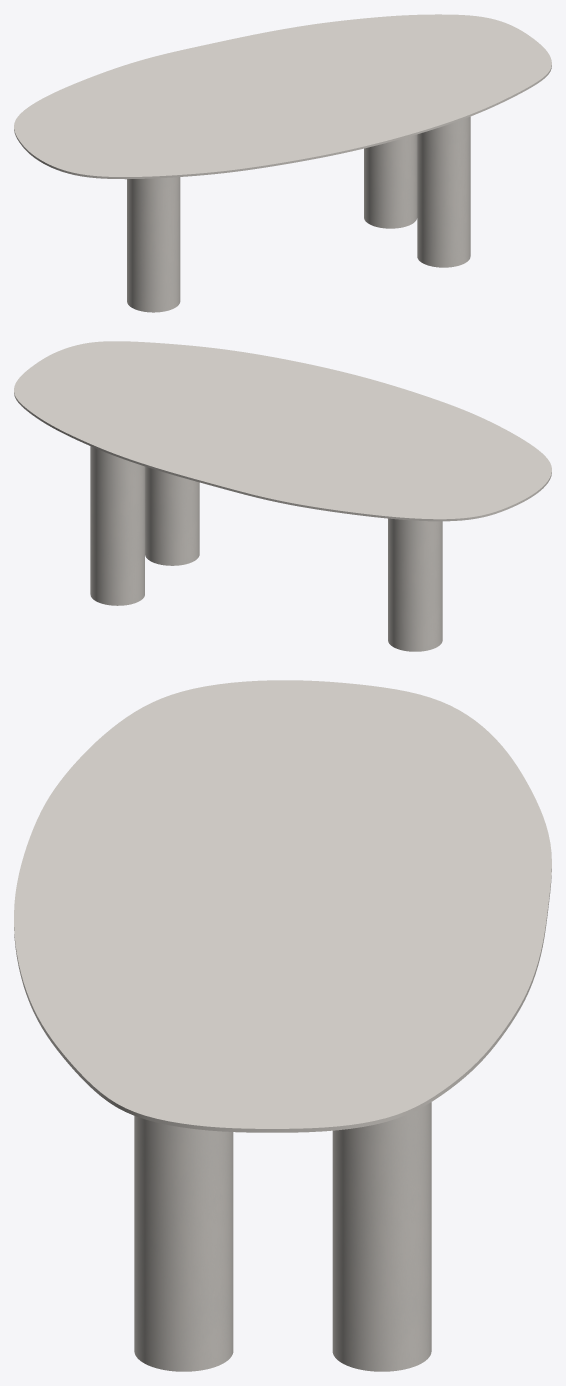
The model's file is pearlwhite_danish_facet_cylinder.glb.
The picture shows the model from 3 angles, top to bottom: view 1: azimuth 30°, elevation 25°; view 2: azimuth 150°, elevation 25°; view 3: azimuth 270°, elevation 25°; orthographic projection. The views are drawn at different scales.
Visible parts, largest first — view 1: facet_danish, cylinder; view 2: facet_danish, cylinder; view 3: facet_danish, cylinder.
Part boxes in pixels (left/top/right/bottom): facet_danish: left=14, top=14, right=551, bottom=179; cylinder: left=127, top=116, right=470, bottom=312; facet_danish: left=14, top=341, right=551, bottom=521; cylinder: left=90, top=446, right=442, bottom=651; facet_danish: left=14, top=680, right=551, bottom=1132; cylinder: left=134, top=1102, right=431, bottom=1371.
Bounding box in the file's own units: 7.5 × 2.52 × 3.8.
1 material, 1 textured.
